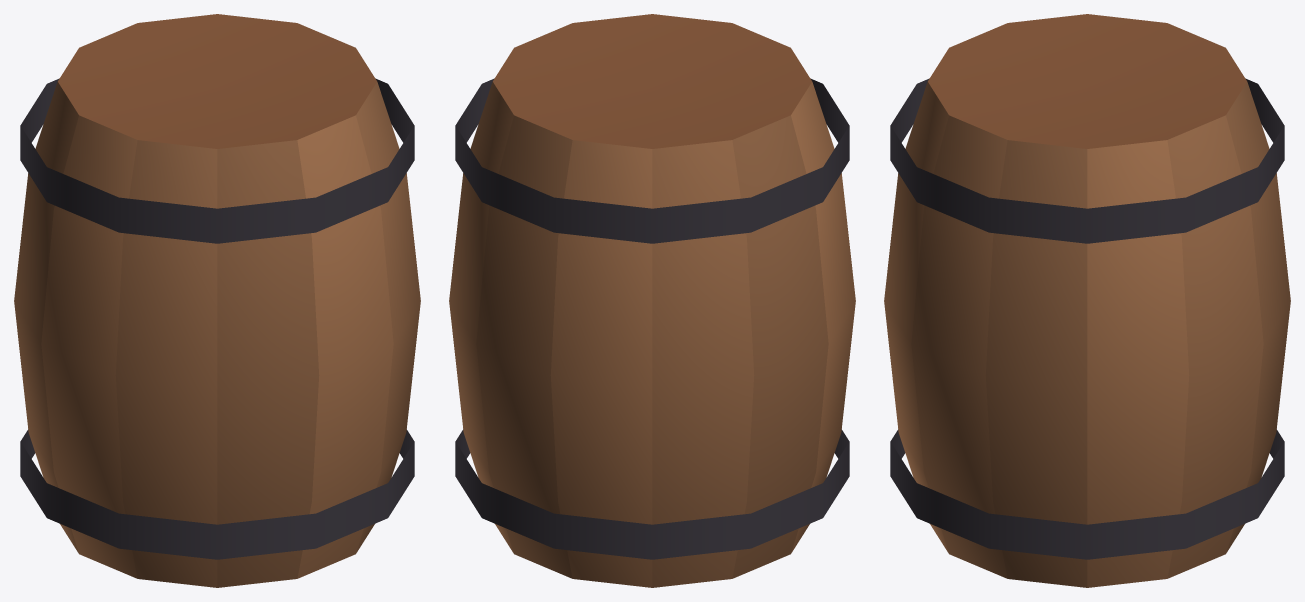
Rendered from barrel.glb.
3 views of the same model, side by side, from view 1: azimuth 30°, elevation 25°; view 2: azimuth 150°, elevation 25°; view 3: azimuth 270°, elevation 25° (orthographic).
Parts seen in each view (by area): view 1: barrel; view 2: barrel; view 3: barrel.
Boxes of the visible parts, x1,y1,x2,y2 form: barrel: (14,14,420,587); barrel: (449,14,855,587); barrel: (884,14,1290,587).
Size of the model in its own units: 0.84 by 1 by 0.84.
